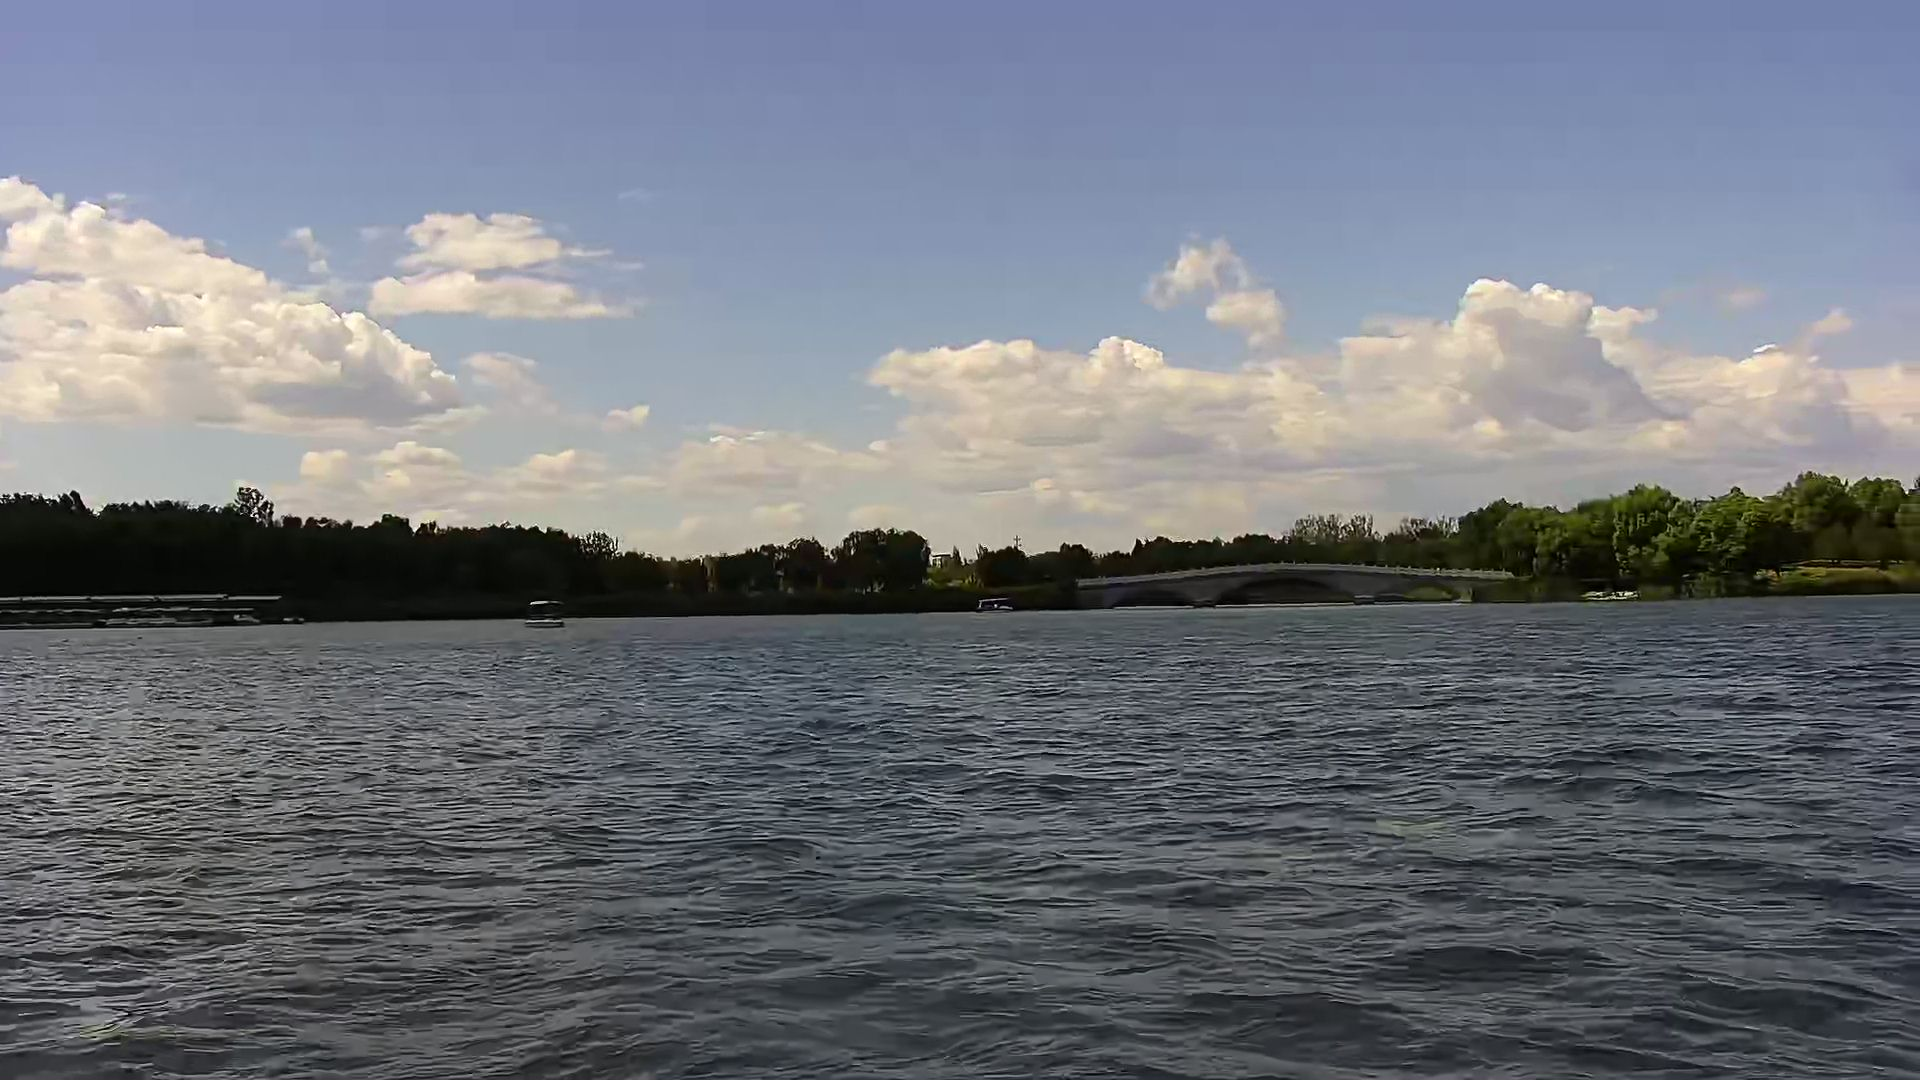boat: (522, 593, 574, 634)
bridge: (1080, 563, 1518, 607)
harbor: (1, 589, 305, 632)
